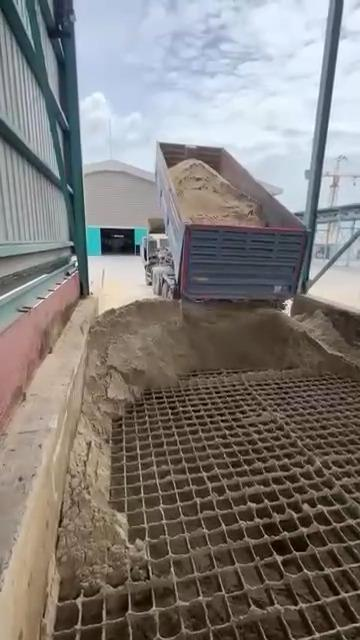sand: (58, 300, 352, 596), (170, 159, 262, 225), (296, 310, 360, 366)
